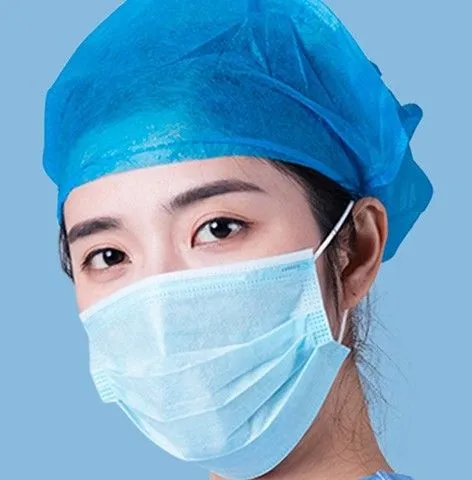withmask: (34, 76, 411, 477)
